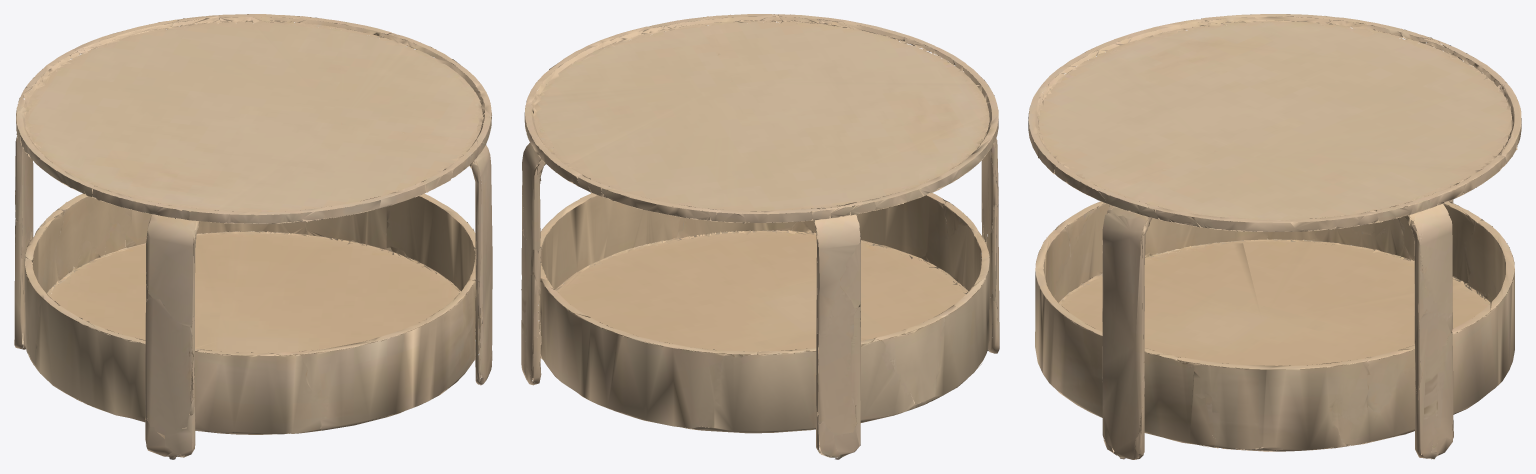
File: ikea-borgeby-coffee-table-birch-veneer-27-1-2-70389356.glb
3 renders of one model, left to right at view 1: azimuth 30°, elevation 25°; view 2: azimuth 150°, elevation 25°; view 3: azimuth 270°, elevation 25°, orthographic. The views are drawn at different scales.
Visible parts, largest first — view 1: model; view 2: model; view 3: model.
Part boxes in pixels (x1,y1,x2,y2): model: [14, 14, 492, 459]; model: [521, 14, 999, 459]; model: [1028, 14, 1521, 459].
Bounding box in the file's own units: 1.81 × 1.07 × 1.81.
1 material, 1 textured.
